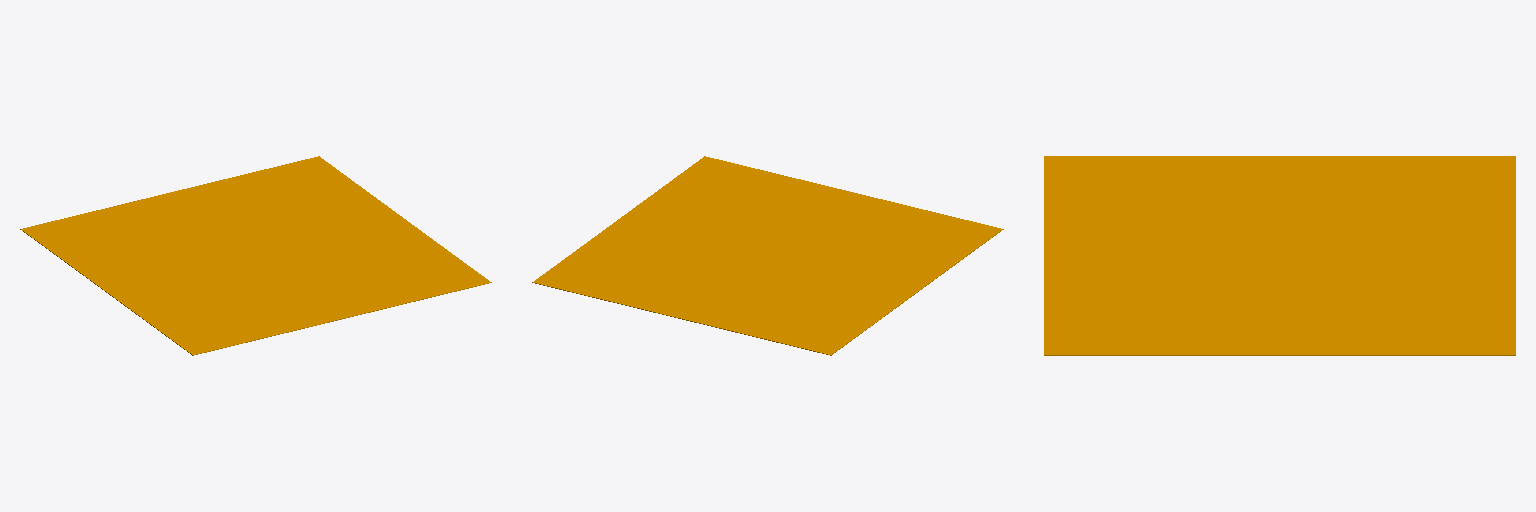
The robot description file, URDF, robot "floor":
<?xml version="1.0"?>
<robot name="floor">
<link name="floor">
    <visual>
        <origin xyz="0 0 0"/>
        <geometry>
            <mesh filename="cuboid_rep2d.obj" scale="12.825 12.825 0.025"/>
        </geometry>
    </visual>
    <collision>
        <origin xyz="0 0 0"/>
        <geometry>
            <box size="25.65 25.65 0.05"/>
        </geometry>
    </collision>
    <inertial>
        <density value="1000.0"/>
    </inertial>
</link>
</robot>

--- Render facts (derived) ---
The picture shows the robot from 3 angles, left to right: view 1: azimuth 30°, elevation 25°; view 2: azimuth 150°, elevation 25°; view 3: azimuth 270°, elevation 25°; orthographic projection.
Model floor with 1 links and 0 joints (none), rooted at floor, posed every joint at zero.
Links seen in each view (by area): view 1: floor; view 2: floor; view 3: floor.
Link boxes in pixels (x1,y1,x2,y2): floor: [20, 156, 491, 355]; floor: [532, 156, 1003, 355]; floor: [1044, 156, 1515, 355].
Bounding box of the posed robot: 25.65 × 25.65 × 0.05 m (x, y, z).
Meshes: 1 distinct files referenced, 1 mesh visuals loaded (1 OBJ).
